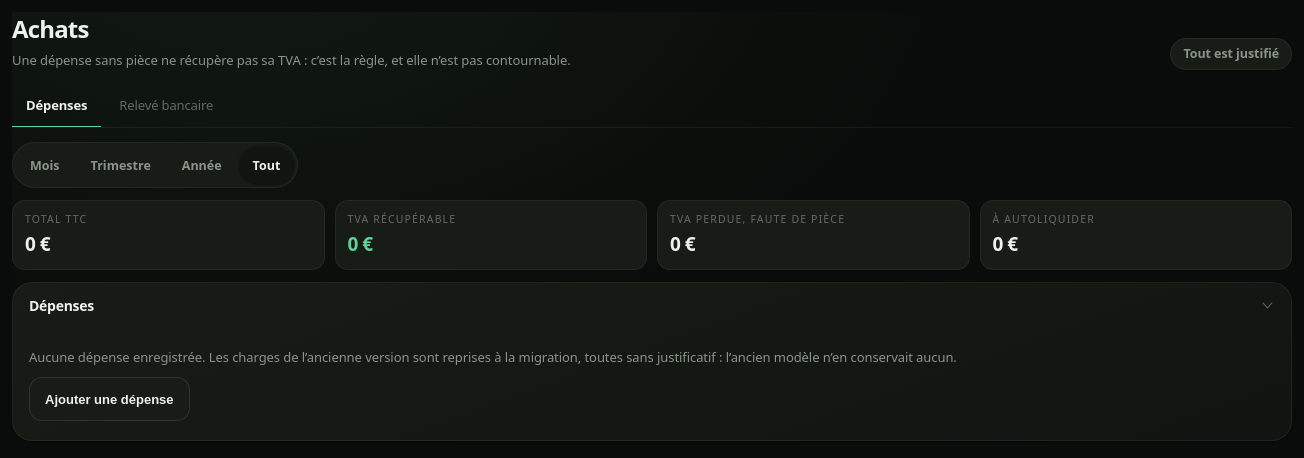
Test case: l’année choisie ancre la période › laisse reculer d’un mois à l’intérieur de l’année ancrée
The width and height of the screenshot is (1304, 458).
Click the button "Mois" at (45, 165), box [16,146,74,184]
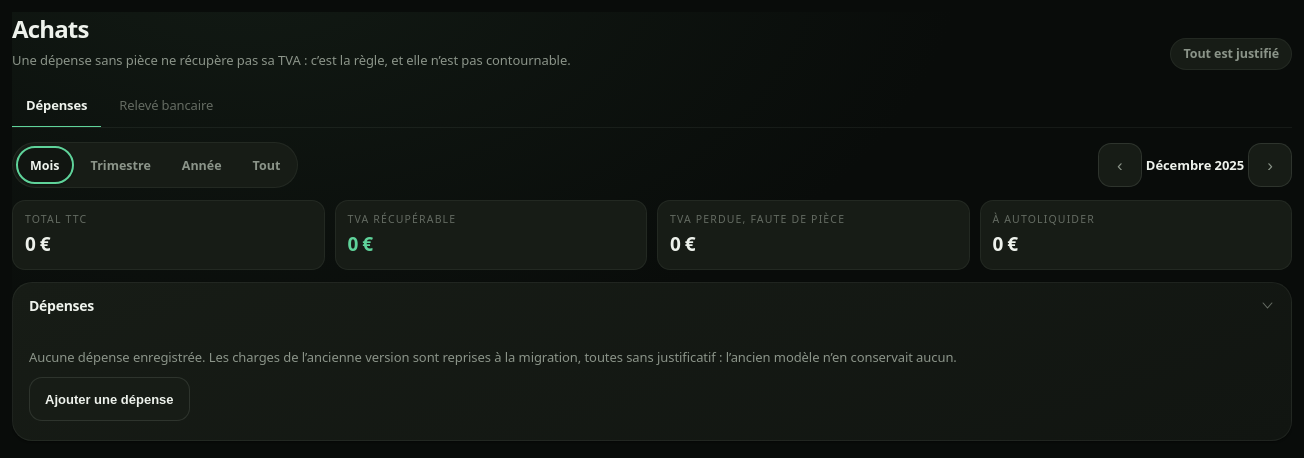
Click the button named "précédent" at (1120, 165), box [1098,143,1142,187]
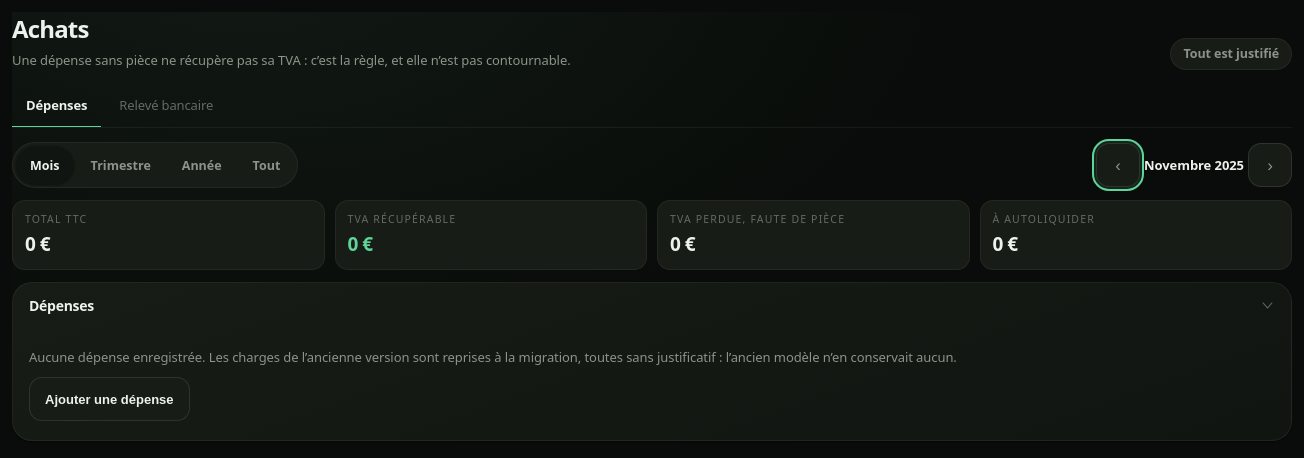
Expected: the text "Novembre 2025" is shown, [1144,156,1244,175]
